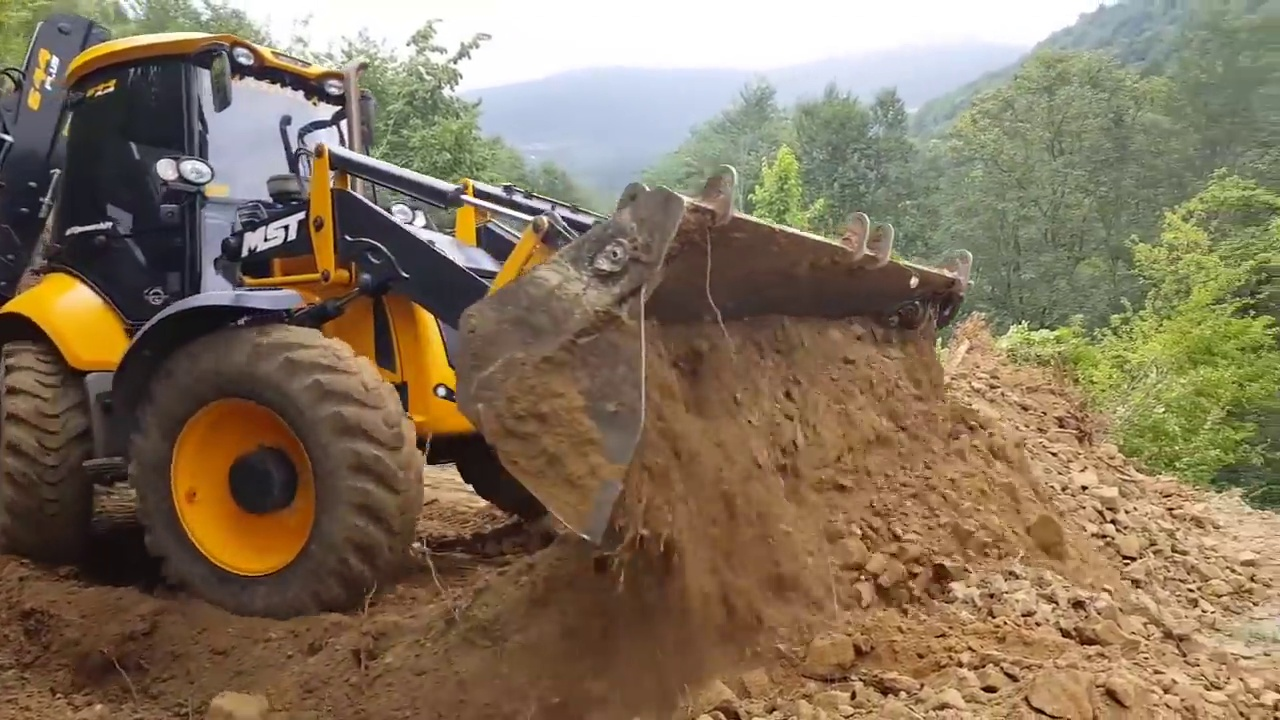wheel loader: (5, 10, 1007, 628)
